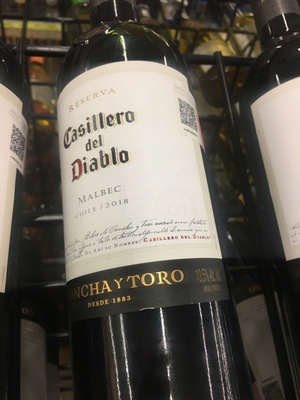casillero del diablo malbec: (53, 24, 228, 398)
